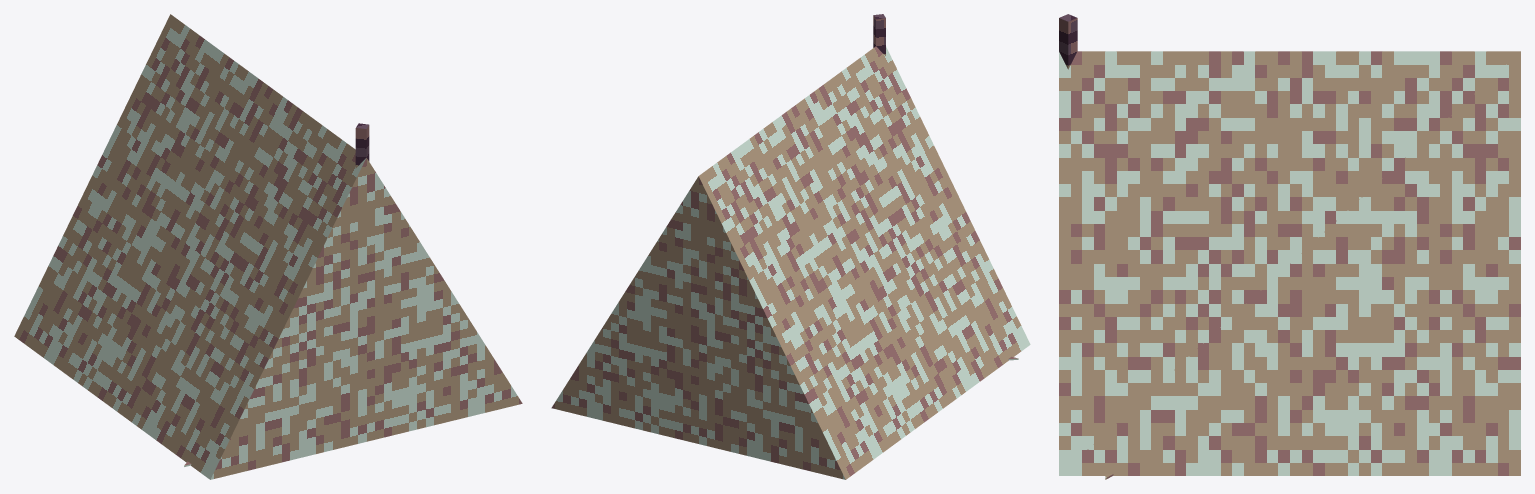
The model's file is a91_tendas_abandonadas.glb.
The picture shows the model from 3 angles, left to right: view 1: azimuth 30°, elevation 25°; view 2: azimuth 150°, elevation 25°; view 3: azimuth 270°, elevation 25°; orthographic projection. The views are drawn at different scales.
Visible parts, largest first — view 1: a91_tendas_abandonadas; view 2: a91_tendas_abandonadas; view 3: a91_tendas_abandonadas.
Part boxes in pixels (x1,y1,x2,y2): a91_tendas_abandonadas: [14, 14, 522, 479]; a91_tendas_abandonadas: [551, 14, 1030, 479]; a91_tendas_abandonadas: [1059, 14, 1520, 479].
Bounding box in the file's own units: 2.4 × 2.2 × 2.5.
2 materials, 2 textured.
